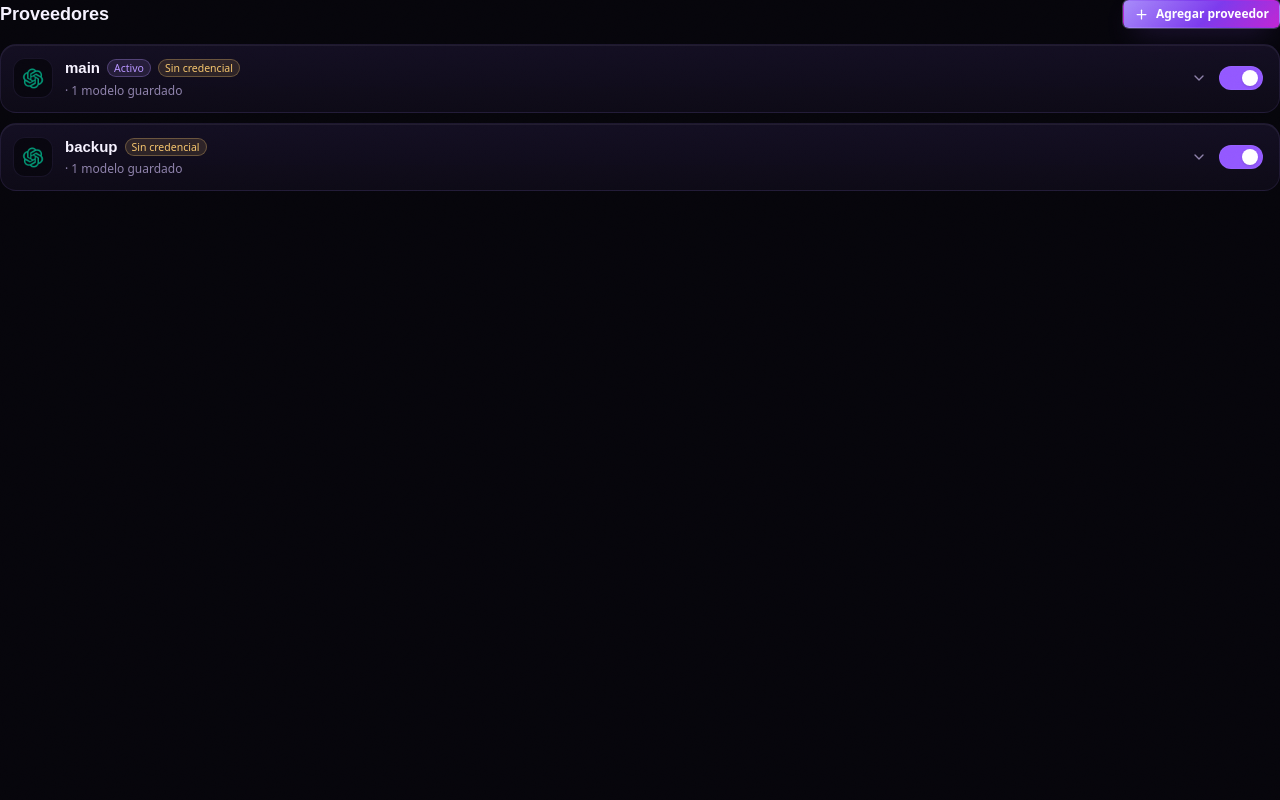
Scenario: with others, it still asks which one takes over
The image size is (1280, 800).
Click the button "main Activo Sin credencial · 1 modelo guardado" at [33, 78], box x1=13 y1=57 x2=1207 y2=100
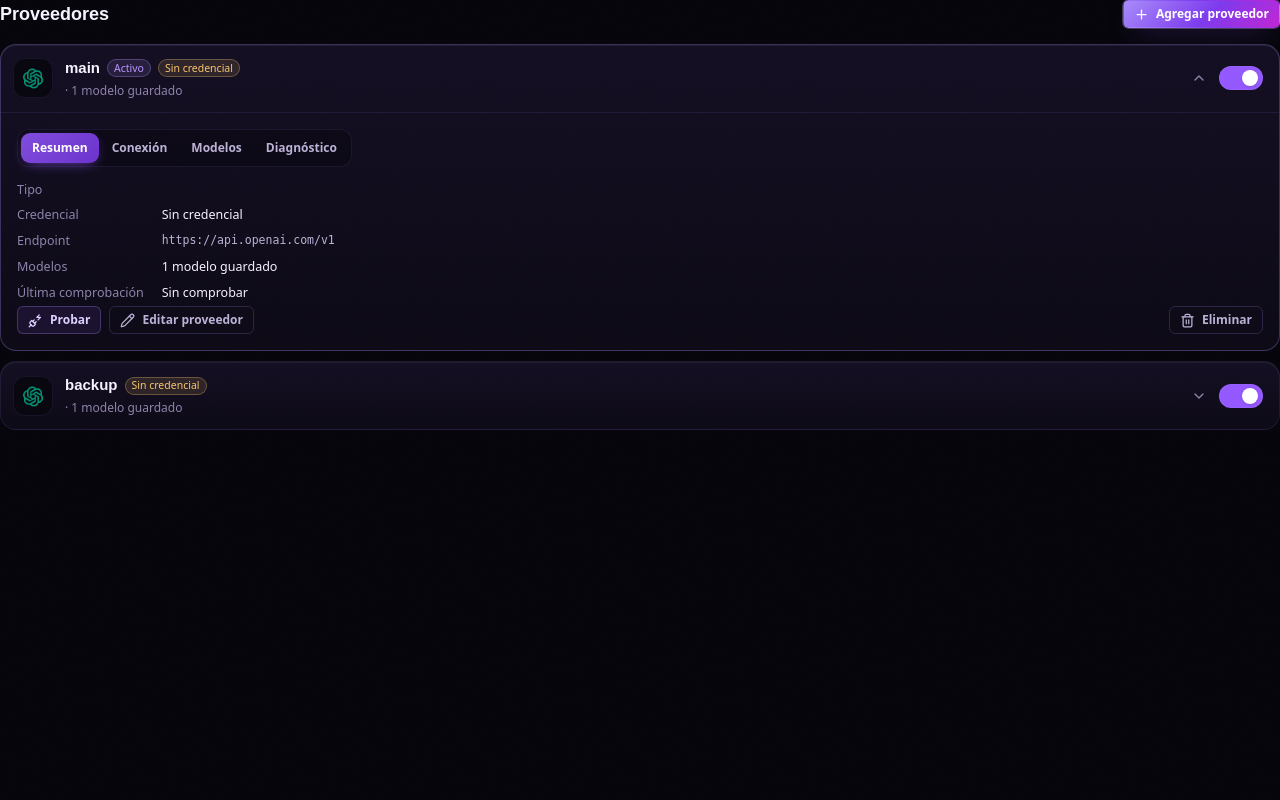
Click the button "Eliminar" at [1216, 320], box x1=1169 y1=306 x2=1263 y2=334
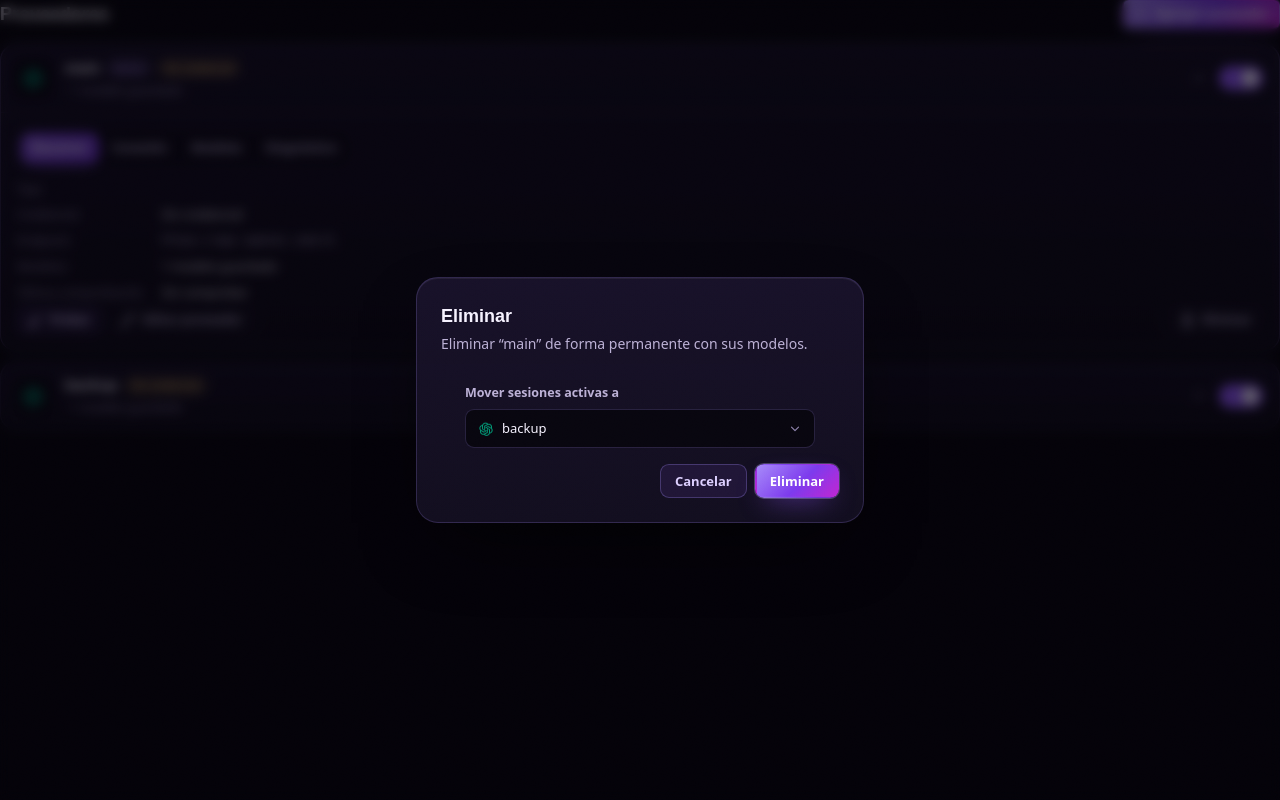
expect the button named "Mover sesiones activas a" is shown: met, box x1=465 y1=409 x2=815 y2=448
